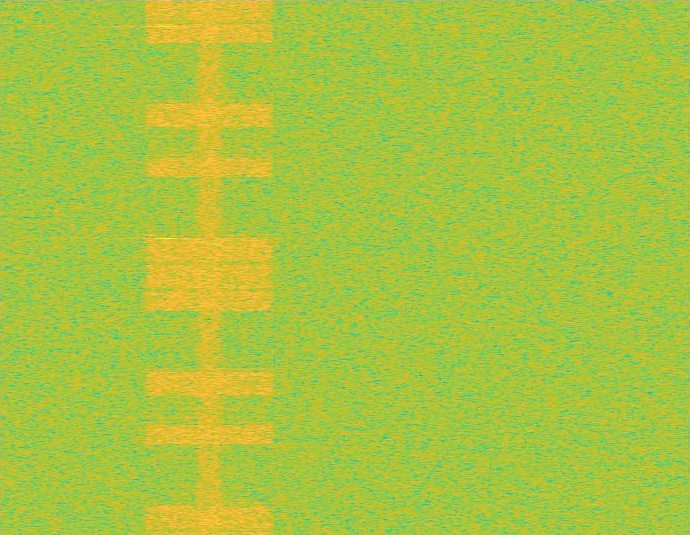DSSS: (194, 0, 225, 534)
LTE: (140, 0, 278, 534)
Radar: (159, 0, 173, 534)
